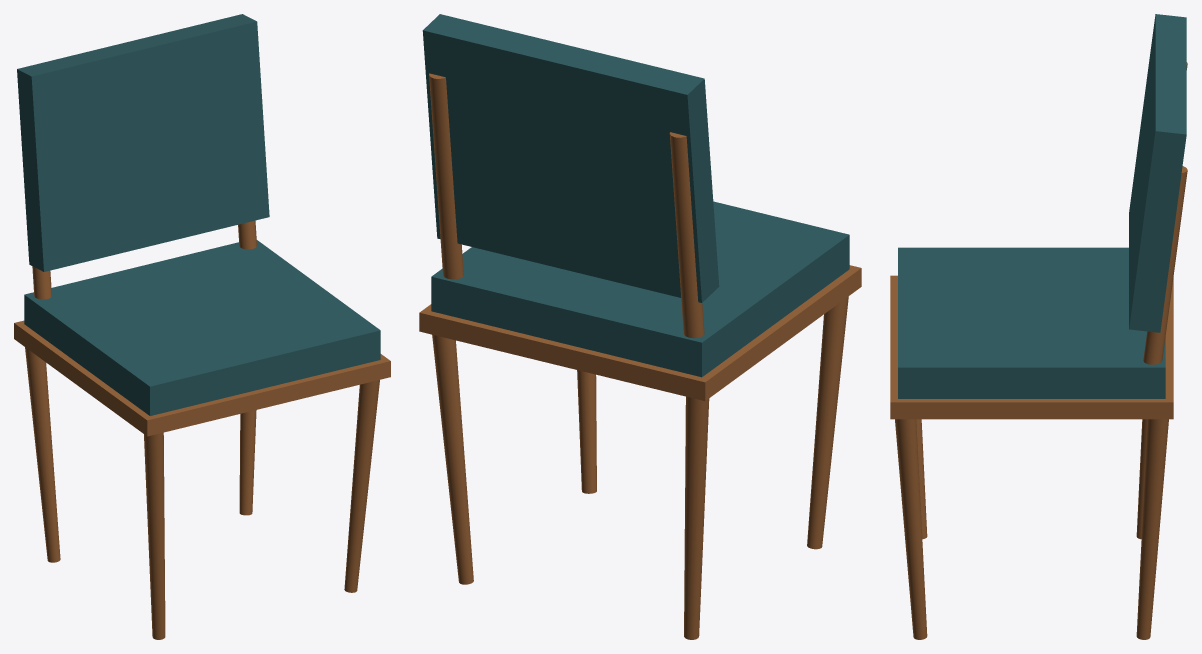
Rendered from chair.glb.
3 views of the same model, side by side, from view 1: azimuth 30°, elevation 25°; view 2: azimuth 150°, elevation 25°; view 3: azimuth 270°, elevation 25° (orthographic). The views are drawn at different scales.
Parts seen in each view (by area): view 1: Cadeira; view 2: Cadeira; view 3: Cadeira.
Part boxes in pixels (x1,y1,x2,y2): Cadeira: (14,14,390,639); Cadeira: (419,14,861,639); Cadeira: (890,14,1187,639).
Size of the model in its own units: 0.95 by 1.8 by 0.9447.
